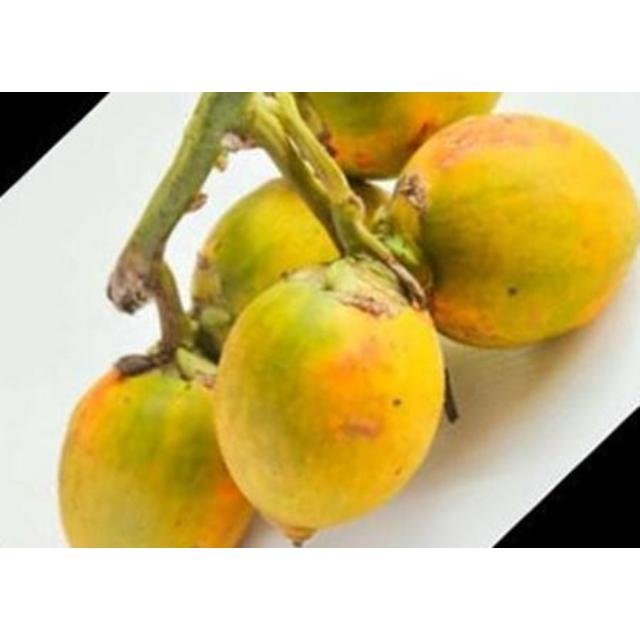good: (210, 253, 455, 547), (402, 113, 639, 351), (57, 366, 253, 547)
